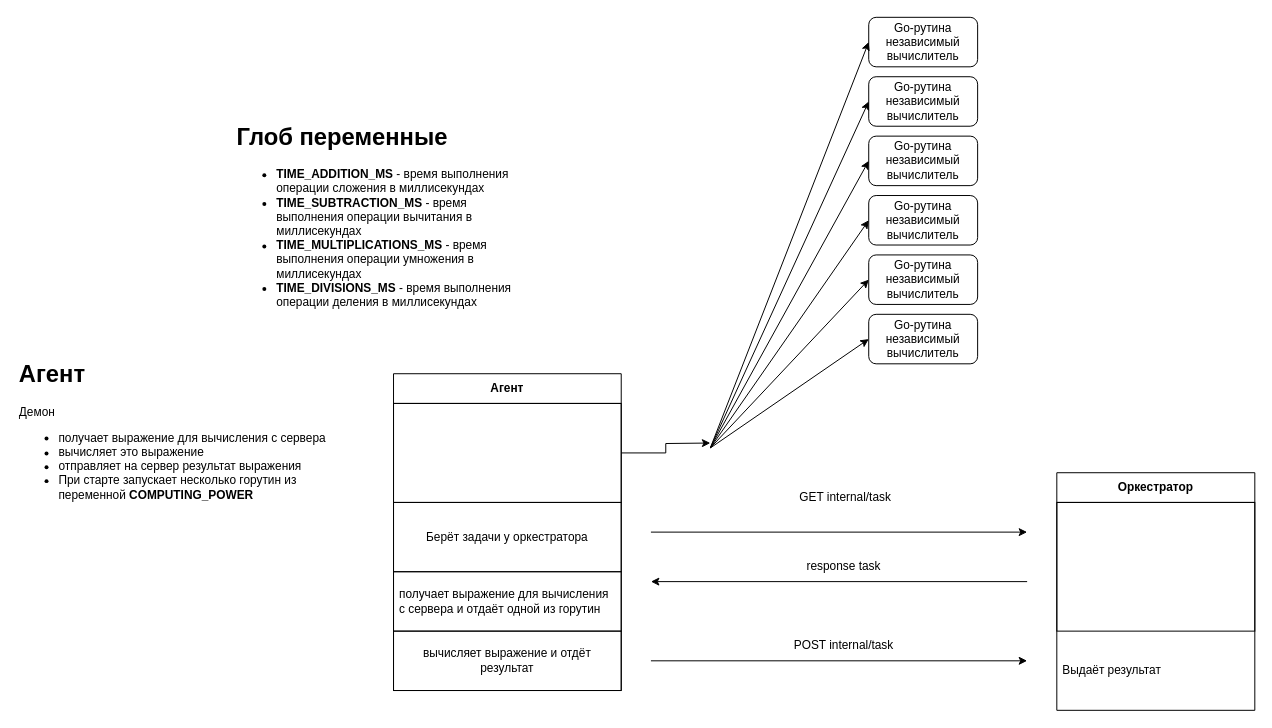
Some shapes in this 1272 by 728 pixel diagram are drawn without their labels. Here are the shapes that lost their labels. From the top down, the centre of each, then its label:
At point 507,452: "При старте запускает несколько горутин из переменной COMPUTING_POWER".
At point 1155,566: "Просматривает буфер задач. Если находит , то отдаёт агенту задачу".
